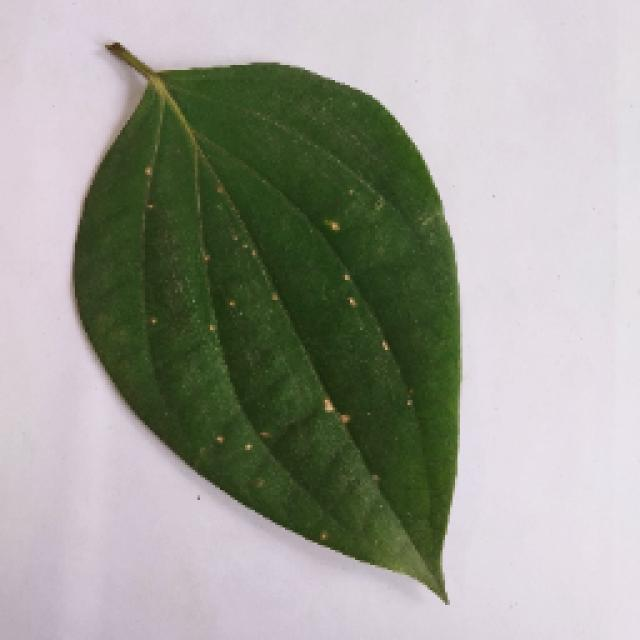pollu-disease: (58, 48, 480, 600)
